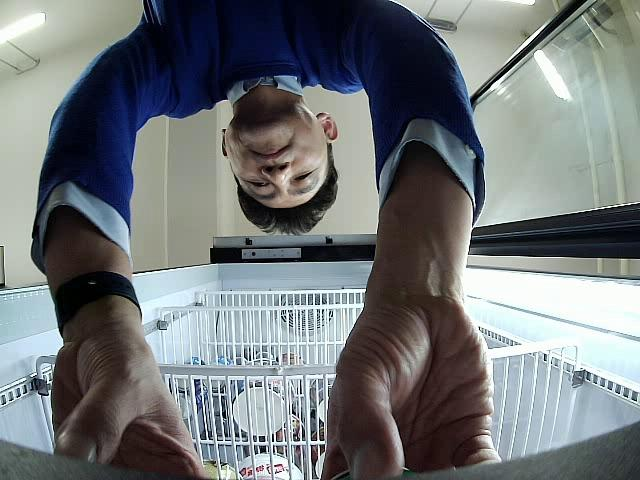00_hand: (320, 237, 501, 478), (51, 332, 205, 479)
